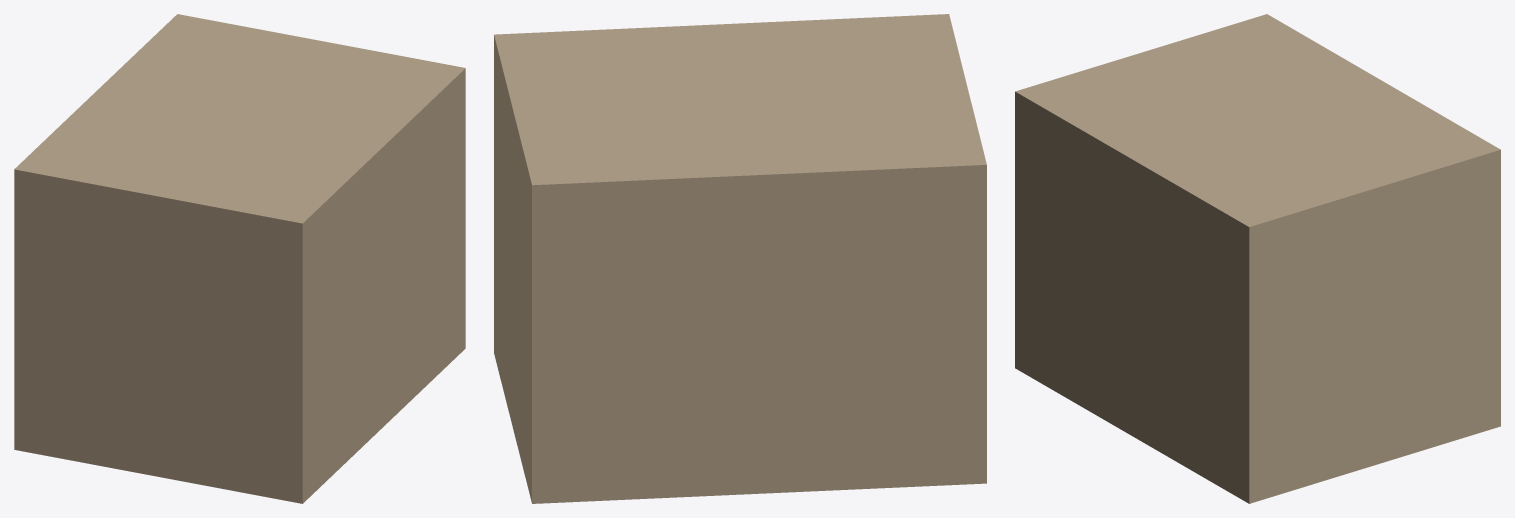
Rendered from bld_101805856.dae.
3 renders of one model, left to right at view 1: azimuth 30°, elevation 25°; view 2: azimuth 150°, elevation 25°; view 3: azimuth 270°, elevation 25°, orthographic. The views are drawn at different scales.
Parts seen in each view (by area): view 1: bld_101805856; view 2: bld_101805856; view 3: bld_101805856.
Part boxes in pixels (box(x1,y1,x2,y2)): bld_101805856: box(14, 14, 465, 503); bld_101805856: box(494, 14, 986, 503); bld_101805856: box(1015, 14, 1500, 503).
Size of the model in its own units: 13.22 by 12.73 by 8.
